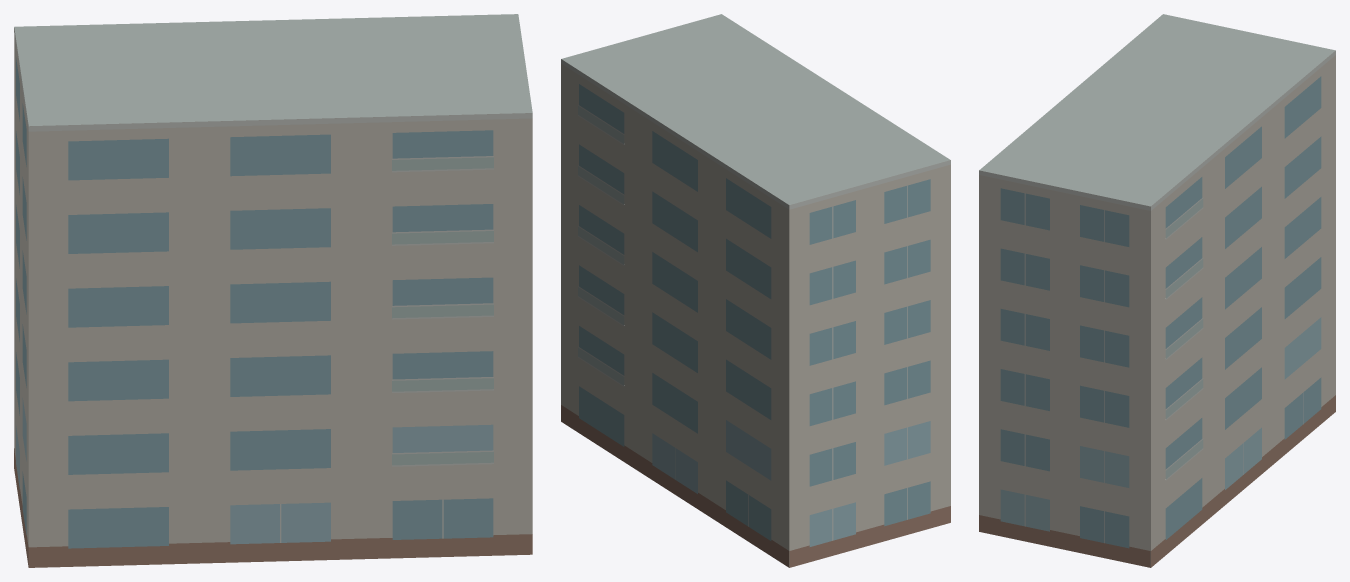
The model's file is survey-upis-32887863.glb.
3 renders of one model, left to right at view 1: azimuth 30°, elevation 25°; view 2: azimuth 150°, elevation 25°; view 3: azimuth 270°, elevation 25°, orthographic. The views are drawn at different scales.
Parts seen in each view (by area): view 1: survey-upis-32887863.tmp; view 2: survey-upis-32887863.tmp; view 3: survey-upis-32887863.tmp.
Part boxes in pixels (box(x1,y1,x2,y2)): survey-upis-32887863.tmp: box(14, 14, 532, 567); survey-upis-32887863.tmp: box(561, 14, 950, 567); survey-upis-32887863.tmp: box(979, 14, 1335, 567).
Size of the model in its own units: 22.28 by 19.5 by 17.45.
